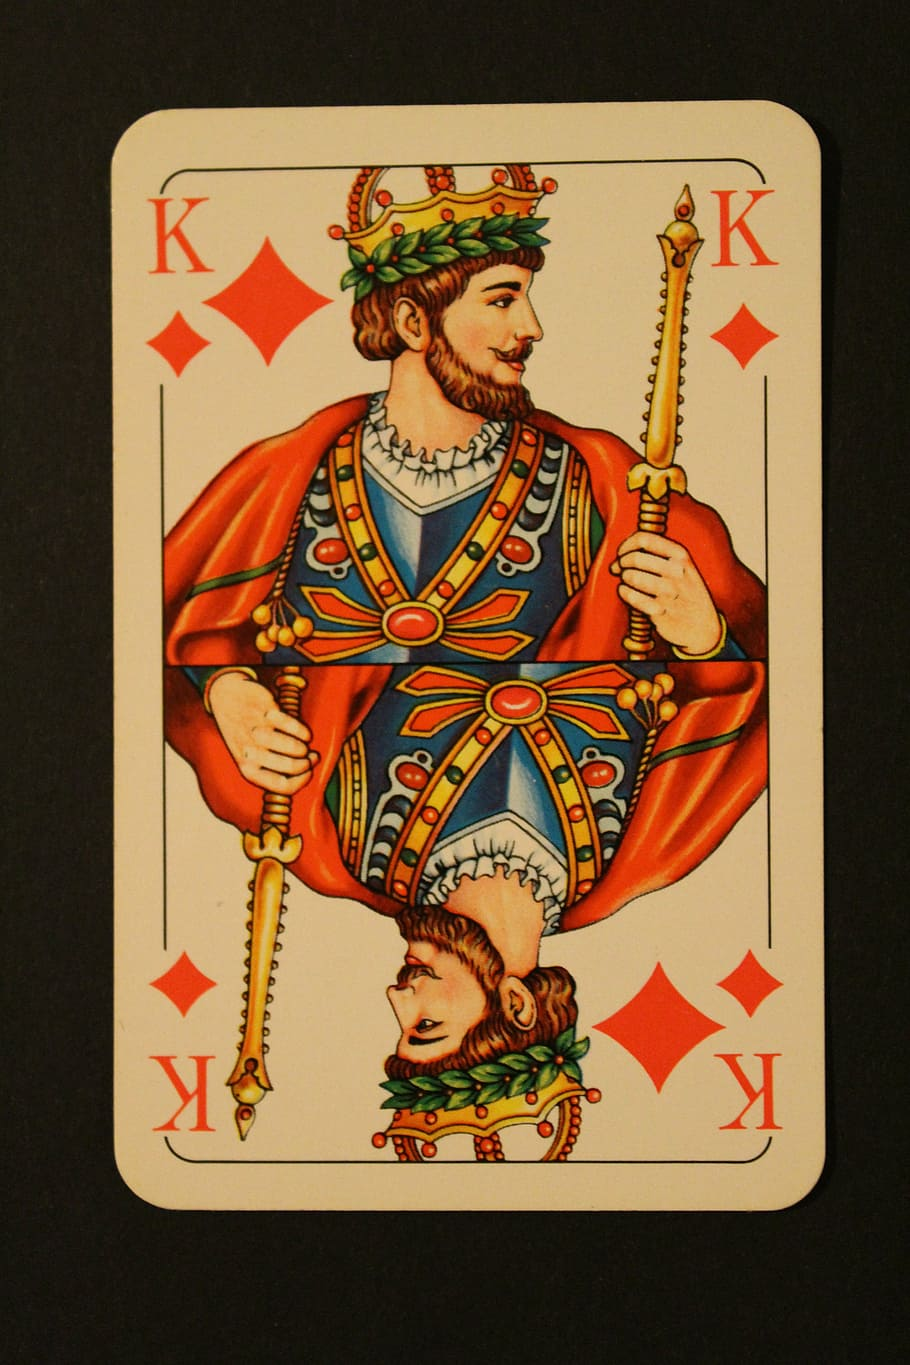king of diamonds: (104, 97, 832, 1203)
